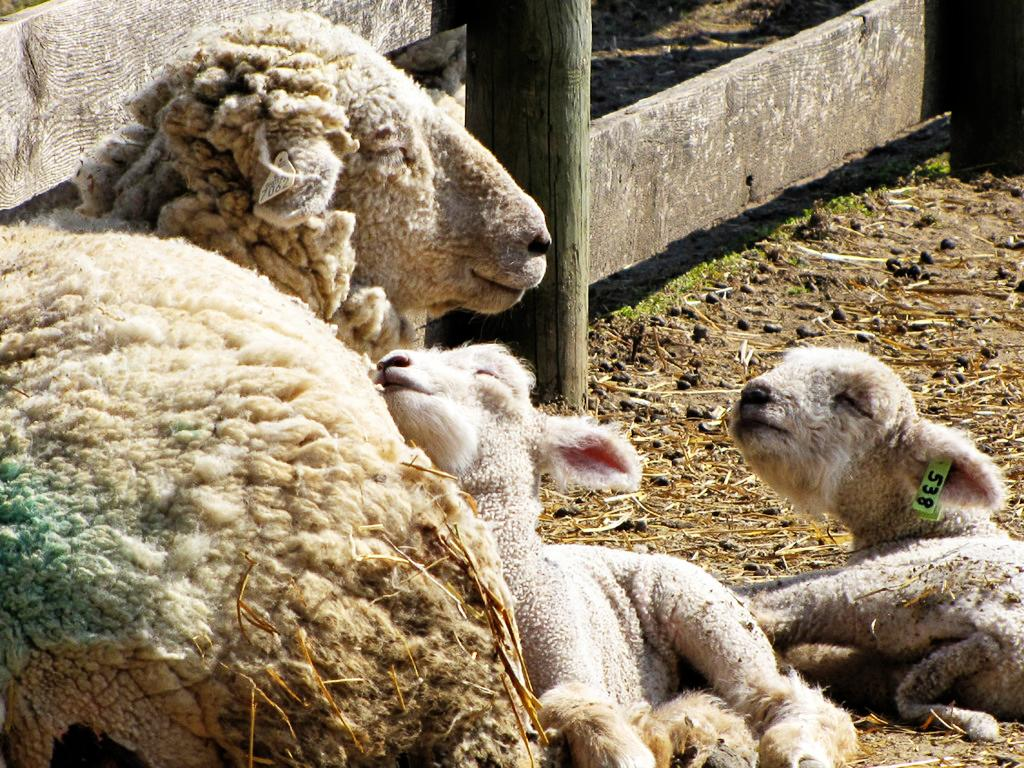Sheep: (2, 8, 552, 767), (372, 335, 858, 767), (725, 346, 1023, 739)
